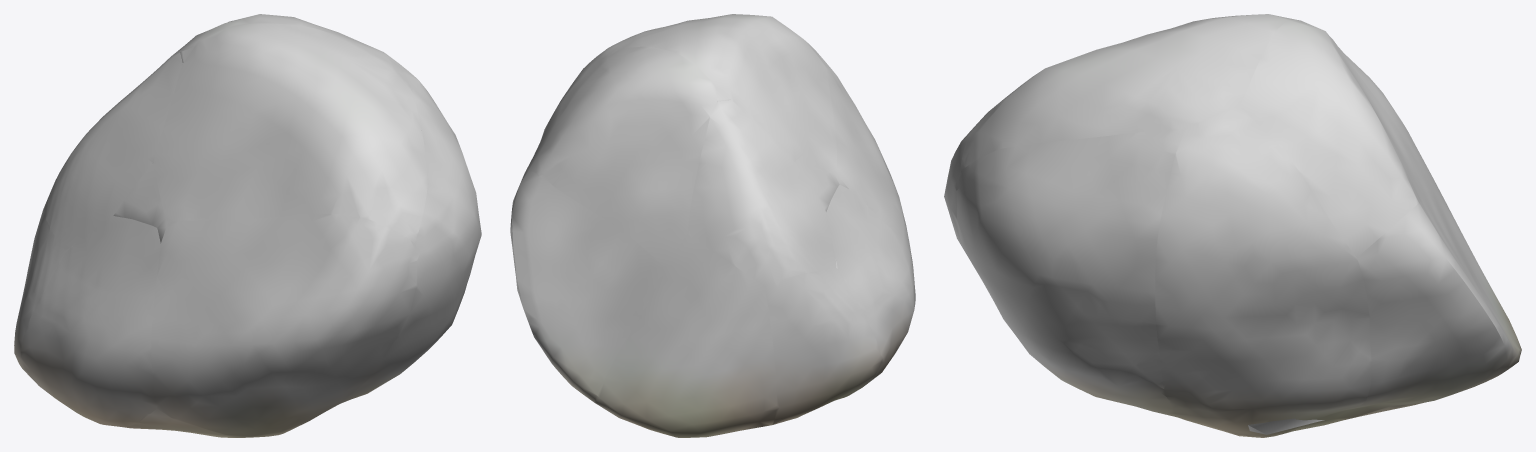
File: gold_rock_v3.glb
3 renders of one model, left to right at view 1: azimuth 30°, elevation 25°; view 2: azimuth 150°, elevation 25°; view 3: azimuth 270°, elevation 25°, orthographic. The views are drawn at different scales.
Parts seen in each view (by area): view 1: Chunk_05, Chunk_09, Chunk_04, Chunk_06, Chunk_08, Chunk_03, Chunk_22, Chunk_17, Chunk_07; view 2: Chunk_07, Chunk_02, Chunk_01, Chunk_08, Chunk_09, Chunk_03, Chunk_04, Chunk_05, Chunk_22, Chunk_00; view 3: Chunk_00, Chunk_06, Chunk_09, Chunk_07, Chunk_01, Chunk_02, Chunk_13, Chunk_05, Chunk_08, Rubble_0.
Boxes of the visible parts, x1,y1,x2,y2 form: Chunk_05: (151, 214, 416, 436); Chunk_09: (153, 22, 427, 242); Chunk_04: (20, 216, 160, 427); Chunk_06: (327, 68, 481, 410); Chunk_08: (44, 52, 182, 249); Chunk_03: (14, 204, 64, 376); Chunk_22: (113, 163, 165, 227); Chunk_17: (123, 218, 250, 437); Chunk_07: (171, 14, 358, 56); Chunk_07: (526, 46, 716, 266); Chunk_02: (596, 234, 776, 437); Chunk_01: (510, 170, 663, 403); Chunk_08: (687, 100, 836, 286); Chunk_09: (618, 14, 836, 174); Chunk_03: (765, 268, 881, 424); Chunk_04: (826, 185, 915, 394); Chunk_05: (821, 57, 912, 261); Chunk_22: (797, 161, 839, 211); Chunk_00: (542, 41, 620, 135); Chunk_00: (1155, 106, 1371, 437); Chunk_06: (956, 129, 1186, 419); Chunk_09: (960, 14, 1294, 172); Chunk_07: (1240, 19, 1433, 257); Chunk_01: (1356, 191, 1519, 407); Chunk_02: (1411, 142, 1521, 360); Chunk_13: (1282, 399, 1438, 434); Chunk_05: (944, 124, 976, 247); Chunk_08: (1335, 43, 1413, 146); Rubble_0: (1248, 418, 1324, 434).
Bounding box in the file's own units: 2.05 × 1.75 × 2.41.
